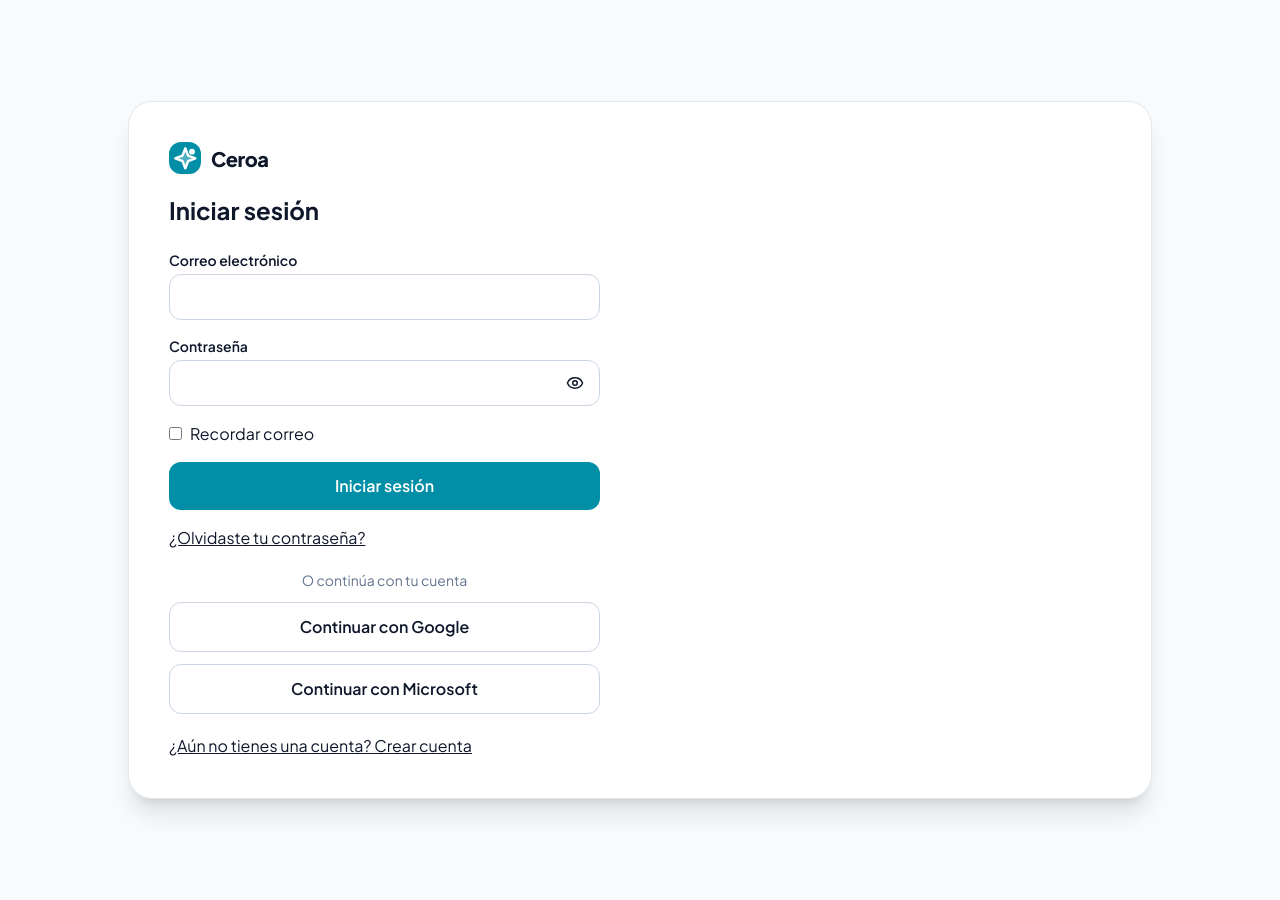
Test: forms and preferences › waits for backend and clears password after rejection
In the field labelled "Correo electrónico": (384, 297) [169,274,600,320], type "ana@example.com"
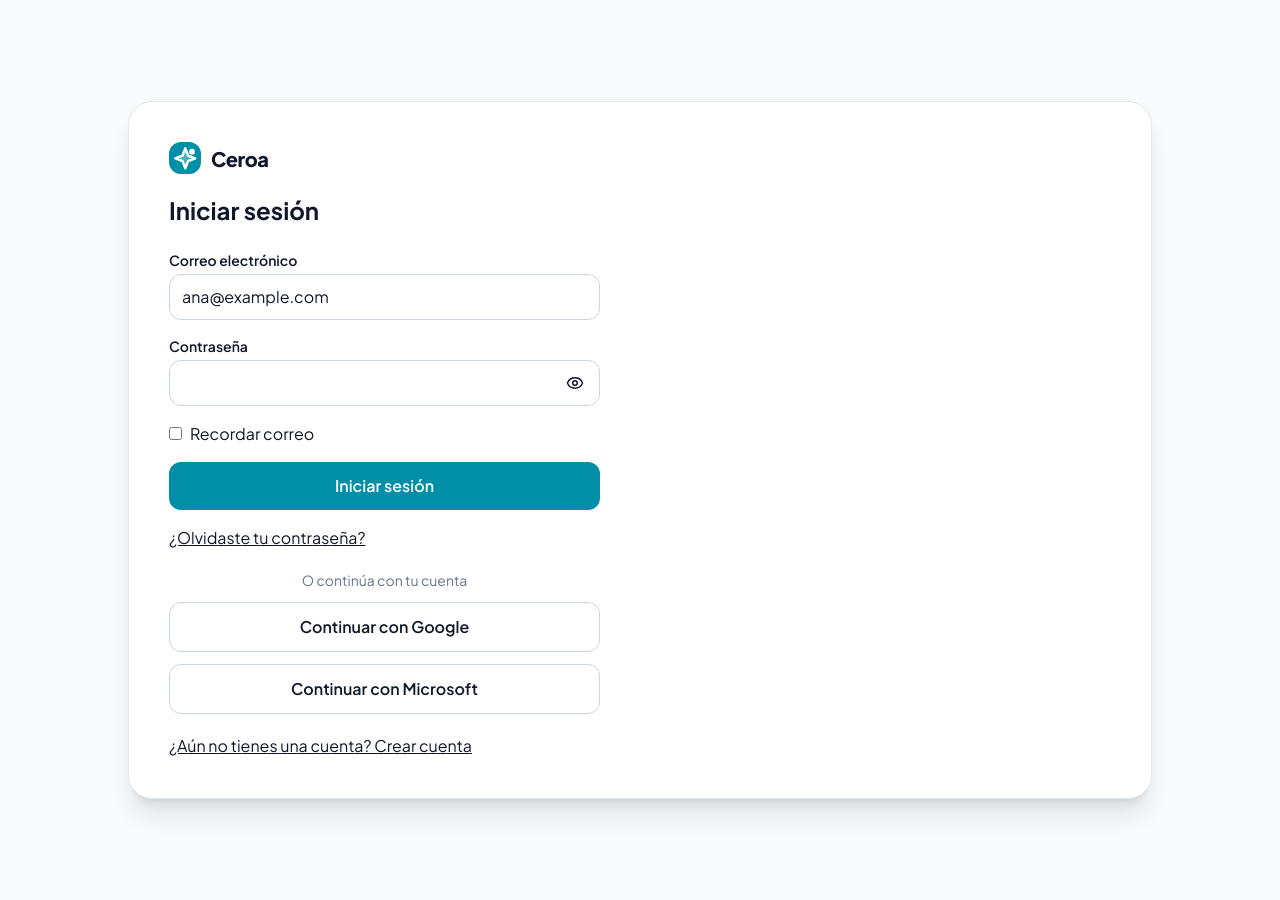
In the password field labelled "Contraseña": (384, 383) [169,360,600,406], type "Password!"
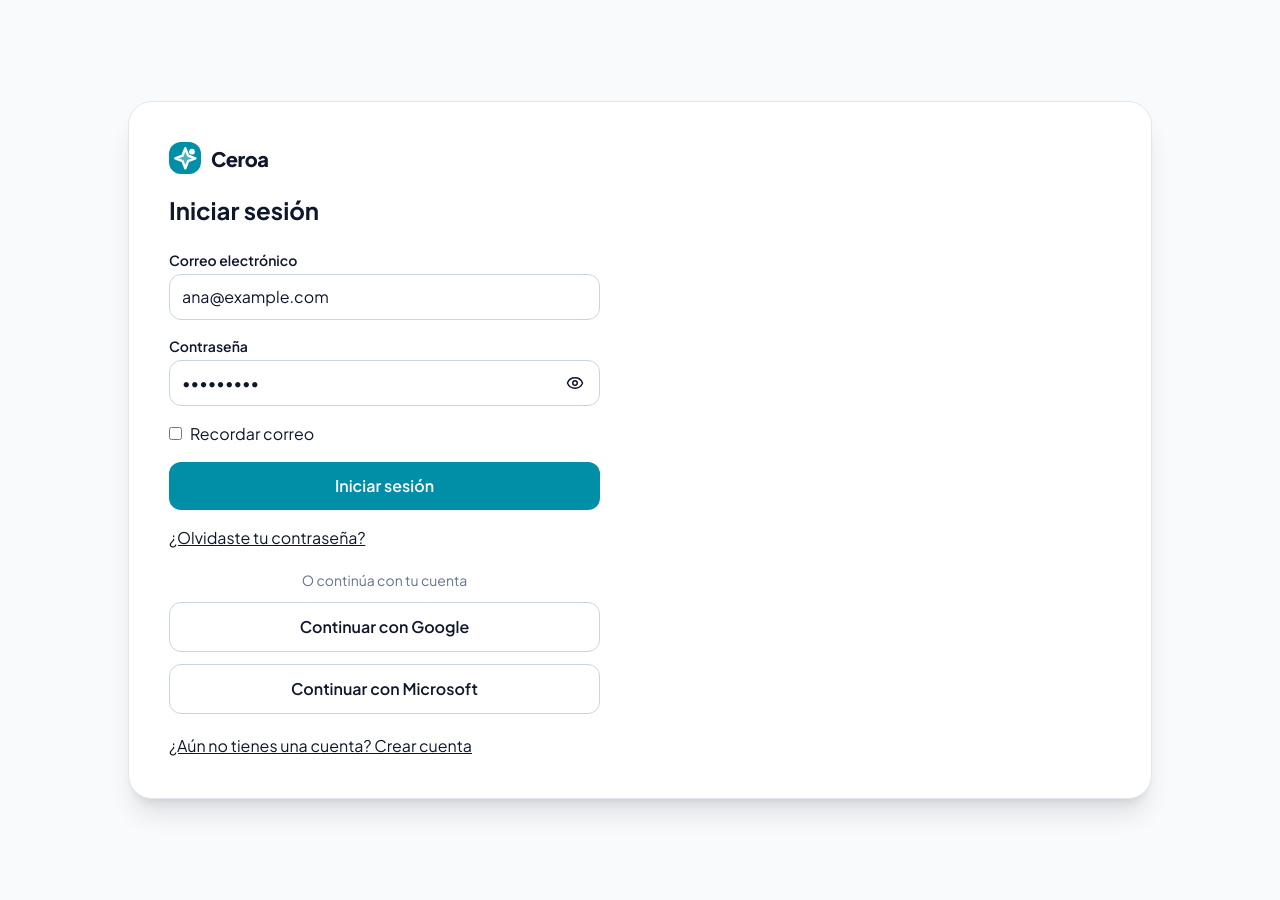
Click the button "Iniciar sesión": (384, 486) [169,462,600,510]
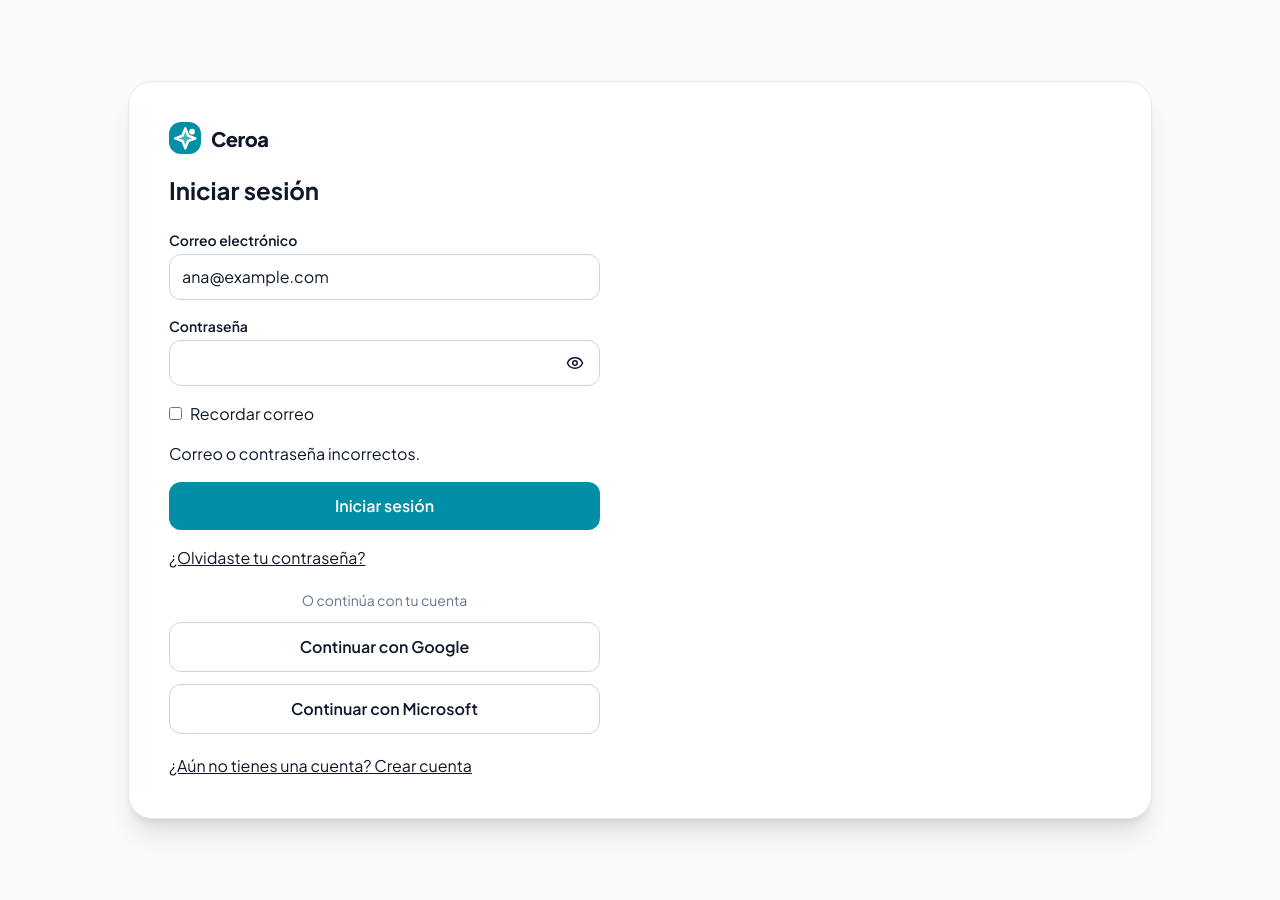
expect the message "Correo o contraseña incorrectos." is shown: met, box [169,443,420,464]
expect the password field labelled "Contraseña" is empty: met, box [169,340,600,386]
